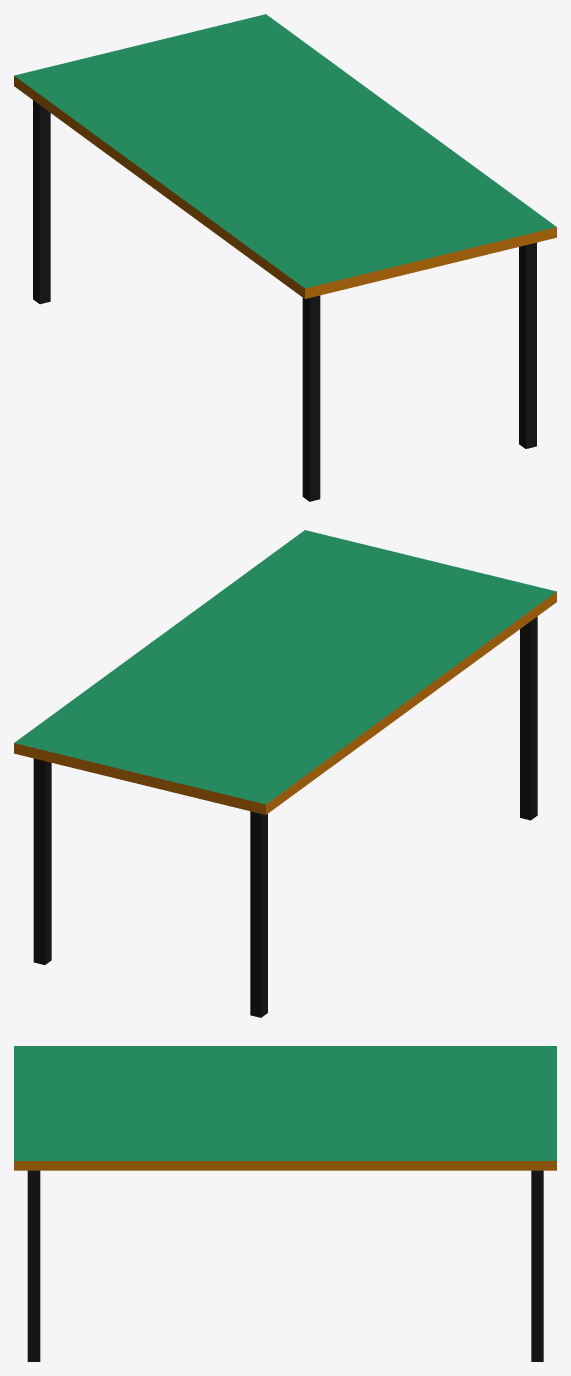
Rendered from Desk.fbx.
3 views of the same model, one above another, from view 1: azimuth 30°, elevation 25°; view 2: azimuth 150°, elevation 25°; view 3: azimuth 270°, elevation 25° (orthographic). The views are drawn at different scales.
Visible parts, largest first — view 1: Cube; view 2: Cube; view 3: Cube.
Part boxes in pixels (bbox=[...]): Cube: bbox=[14, 14, 556, 501]; Cube: bbox=[14, 530, 556, 1017]; Cube: bbox=[14, 1046, 556, 1361].
Size of the model in its own units: 100 by 84 by 200.
